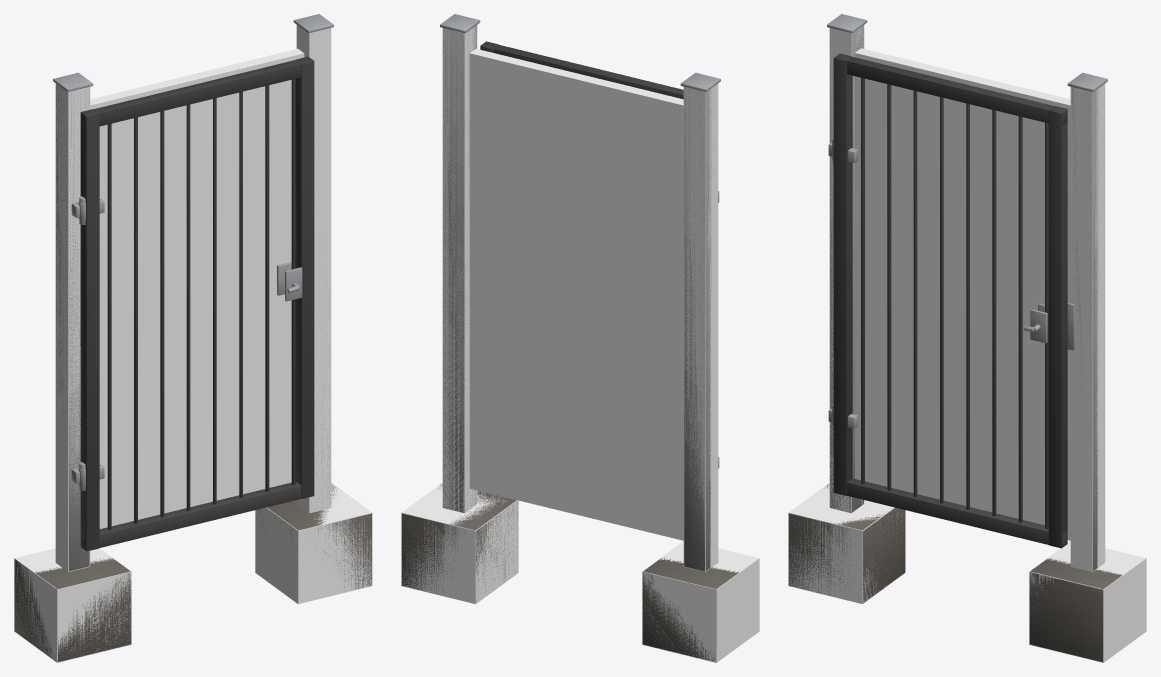
File: PedestrianGate.glb
The picture shows the model from 3 angles, left to right: view 1: azimuth 30°, elevation 25°; view 2: azimuth 150°, elevation 25°; view 3: azimuth 330°, elevation 25°; orthographic projection.
Visible parts, largest first — view 1: PedGate_Leaf, PedGate_Static; view 2: PedGate_Leaf, PedGate_Static; view 3: PedGate_Leaf, PedGate_Static.
Part boxes in pixels (box(x1,y1,x2,y2)): PedGate_Leaf: box(79, 48, 314, 551); PedGate_Static: box(14, 14, 372, 662); PedGate_Leaf: box(469, 41, 683, 540); PedGate_Static: box(401, 14, 759, 662); PedGate_Leaf: box(832, 48, 1070, 548); PedGate_Static: box(788, 14, 1146, 662).
Bounding box in the file's own units: 1.44 × 2.43 × 0.34.
Materials: 3 (2 with a texture image).
